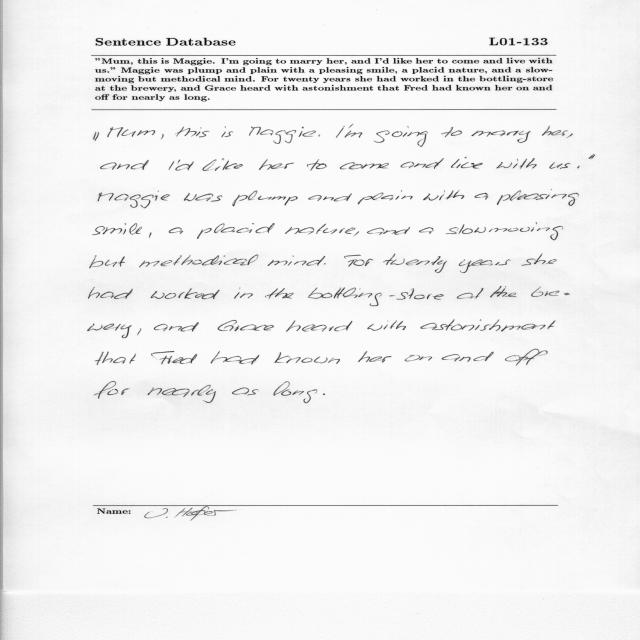word: (307, 287, 444, 306), (446, 223, 563, 240), (421, 320, 556, 332), (139, 255, 258, 268), (497, 189, 579, 206), (98, 191, 170, 209), (197, 223, 275, 239), (148, 385, 216, 403), (384, 254, 448, 273), (249, 126, 316, 144), (374, 126, 428, 147), (232, 191, 298, 207), (274, 382, 318, 404), (286, 320, 352, 332), (274, 352, 340, 364), (358, 191, 413, 205), (285, 224, 355, 235), (151, 288, 220, 299), (505, 349, 548, 366), (459, 259, 510, 273), (472, 131, 531, 143), (94, 381, 130, 399), (211, 351, 260, 364), (268, 255, 325, 266), (88, 324, 132, 338), (218, 320, 274, 331), (151, 351, 197, 364), (93, 223, 142, 235), (88, 287, 133, 299), (202, 158, 243, 171), (96, 352, 136, 365), (442, 352, 494, 362), (100, 160, 149, 170), (400, 158, 444, 169), (107, 127, 155, 137), (423, 190, 465, 201), (90, 255, 125, 268), (496, 158, 537, 169), (154, 322, 199, 332), (531, 286, 570, 297), (367, 320, 406, 331), (522, 254, 557, 266), (358, 351, 392, 363), (259, 159, 294, 170), (451, 157, 483, 169), (177, 127, 210, 138), (308, 194, 352, 202), (344, 255, 373, 267), (367, 227, 410, 235), (340, 163, 389, 170), (184, 193, 222, 202), (490, 286, 517, 298), (265, 288, 294, 299), (457, 288, 484, 299), (344, 124, 363, 138), (542, 126, 568, 136), (307, 159, 327, 171), (441, 127, 462, 137), (175, 160, 194, 171), (234, 288, 253, 299), (232, 388, 258, 396), (405, 355, 432, 361), (550, 162, 571, 169), (222, 126, 233, 137), (419, 227, 434, 234), (169, 227, 183, 234), (475, 193, 488, 200), (336, 128, 343, 138), (94, 132, 99, 141), (169, 161, 174, 170), (566, 134, 573, 138), (138, 329, 142, 336), (354, 231, 359, 236), (589, 155, 595, 159), (149, 232, 152, 238), (161, 134, 164, 139), (577, 166, 580, 168), (318, 135, 320, 137), (324, 263, 326, 265), (323, 393, 325, 395)
